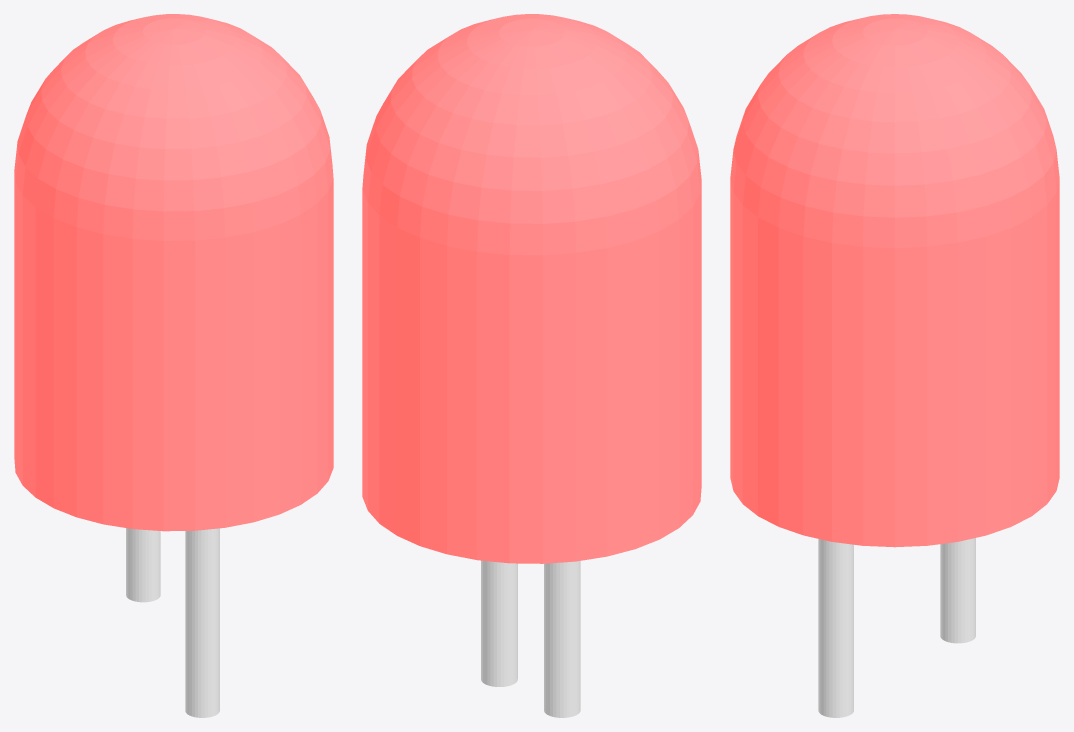
The model's file is led.gltf.
The picture shows the model from 3 angles, left to right: view 1: azimuth 30°, elevation 25°; view 2: azimuth 150°, elevation 25°; view 3: azimuth 270°, elevation 25°; orthographic projection. The views are drawn at different scales.
Visible parts, largest first — view 1: Led, terminales; view 2: Led, terminales; view 3: Led, terminales.
Boxes of the visible parts, x1,y1,x2,y2 form: Led: [14, 14, 333, 531]; terminales: [126, 528, 219, 717]; Led: [362, 14, 701, 563]; terminales: [481, 560, 580, 717]; Led: [730, 14, 1059, 547]; terminales: [818, 538, 975, 717].
Size of the model in its own units: 0.3125 by 0.7128 by 0.3125.
